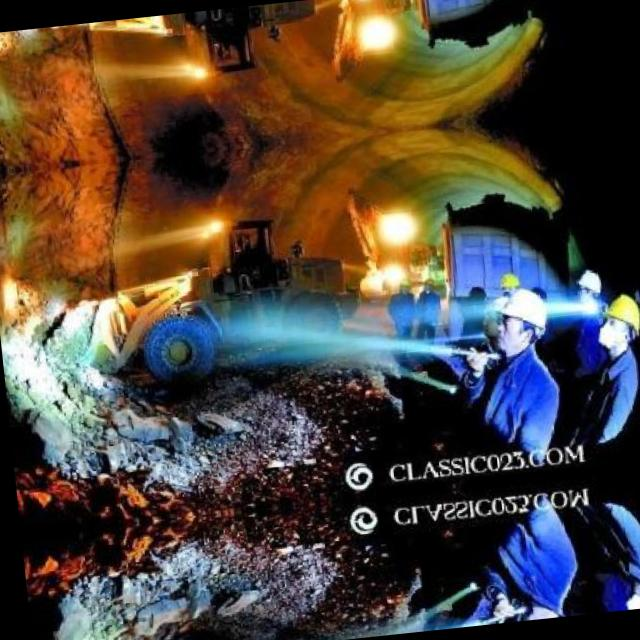helmet: (492, 287, 550, 354), (594, 287, 640, 353), (478, 295, 520, 339), (572, 264, 606, 310), (496, 270, 523, 296), (394, 274, 411, 293), (625, 587, 640, 608), (418, 274, 436, 290)
